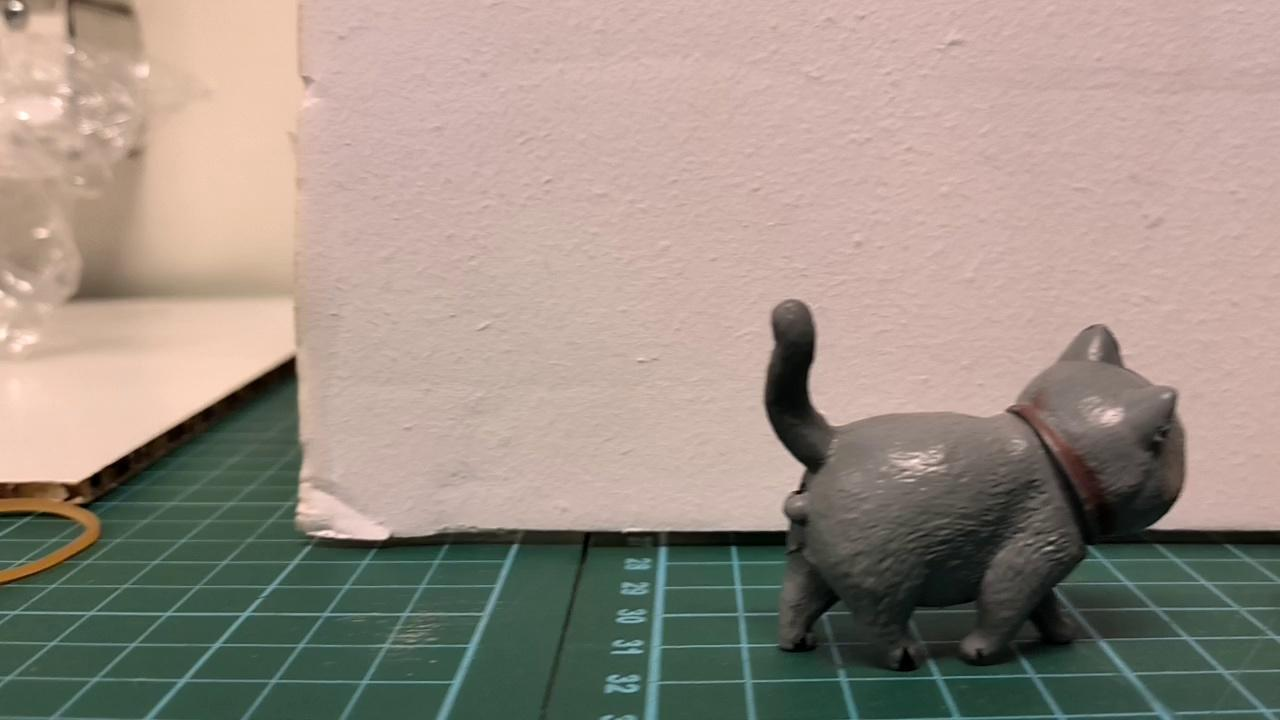pet: (759, 296, 1192, 677)
